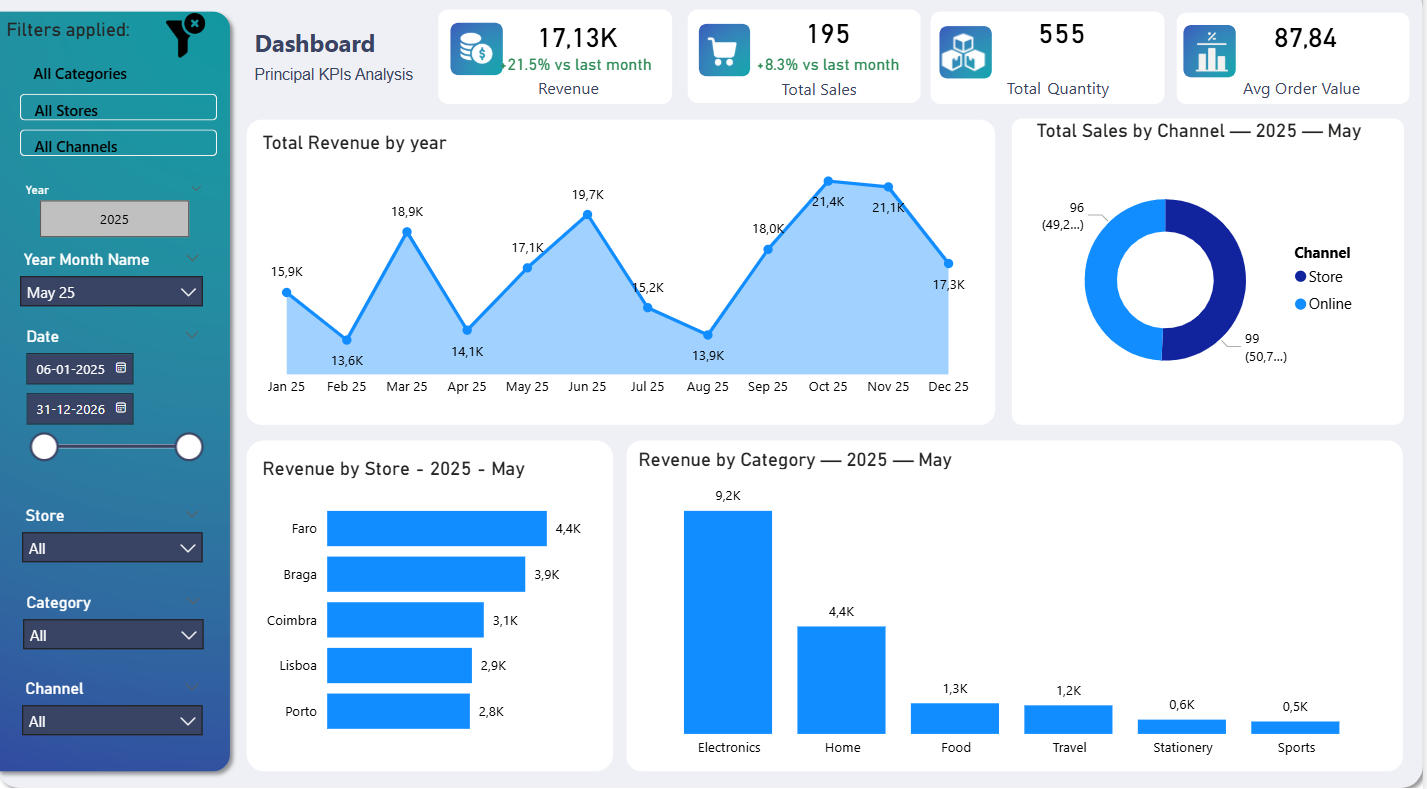

What the dashboard file says about the page in this screenshot:
{"tool":"powerbi","page":{"name":"Sales Overview","canvas":[1280,720],"ordinal":0},"visuals":[{"type":"card","fields":{"Values":["Measures (2).Total Sales"]},"box":[700.2,0,89.7,79.8],"z":0},{"type":"card","fields":{"Values":["Measures (2).Total Quantity"]},"box":[911.5,0,87.2,79.8],"z":1000},{"type":"card","fields":{"Values":["Measures (2).Average Order Value"]},"box":[1130.1,0,87.2,87.2],"z":2000},{"type":"columnChart","fields":{"Category":["Products.Category"],"Y":["Measures (2).Revenue"]},"box":[570.2,412.6,682.3,286.7],"z":3000},{"type":"clusteredBarChart","fields":{"Category":["Stores.Store"],"Y":["Measures (2).Revenue"]},"box":[232.2,421.3,307.1,266.6],"z":4000},{"type":"areaChart","title":"Total Revenue by year","fields":{"Y":["Measures (2).Revenue"],"Category":["DimDate.Date Hierarchy.Year","DimDate.Date Hierarchy.YearQuarter","DimDate.Date Hierarchy.Year Month Name"]},"box":[232.5,128.8,647.5,247.5],"z":5000},{"type":"donutChart","fields":{"Y":["Measures (2).Total Sales"],"Category":["Sales_Clean.Channel"]},"box":[927.5,117.5,311.2,270],"z":6000},{"type":"slicer","fields":{"Values":["DimDate.Year"]},"box":[11.8,169.9,183.8,60.9],"z":7000},{"type":"slicer","fields":{"Values":["DimDate.Date"]},"box":[12.8,300.2,180.6,152.8],"z":8000},{"type":"slicer","fields":{"Values":["Stores.Store"]},"box":[11.8,460.5,181.6,78],"z":9000},{"type":"slicer","fields":{"Values":["Products.Category"]},"box":[12.8,538.5,181.6,76.9],"z":10000},{"type":"slicer","fields":{"Values":["Sales_Clean.Channel"]},"box":[11.8,615.4,181.6,83.3],"z":11000},{"type":"cardVisual","title":"Filters applied:","fields":{"Data":["Measures (2).Report Context","Measures (2).Report context stores","Measures (2).Report context channels"]},"box":[2.7,26.9,211.9,142.7],"z":12000},{"type":"card","fields":{"Values":["Measures (2).Revenue"]},"box":[459.1,6.3,122.7,74],"z":13000},{"type":"card","fields":{"Values":["Measures (2).Revenue Trend Label"]},"box":[428.4,41.3,179.8,57.1],"z":14000},{"type":"card","fields":{"Values":["Measures (2).Total Sales Trend Label"]},"box":[670.7,29.5,148.6,79.8],"z":15000},{"type":"image","box":[136.8,22.3,63.9,40.1],"z":16000},{"type":"slicer","fields":{"Values":["DimDate.Year Month Name"]},"box":[9.6,230.8,183.8,60.9],"z":16001}]}

Visuals, with their boxes in screenshot pixels (x1, y1, x2, y2), scaled from the page's 1280x720 canvas onto the 1427x789 screenshot:
card - Measures (2).Total Sales: rect(781, 0, 881, 87)
card - Measures (2).Total Quantity: rect(1016, 0, 1113, 87)
card - Measures (2).Average Order Value: rect(1260, 0, 1357, 96)
columnChart - Products.Category x Measures (2).Revenue: rect(636, 452, 1396, 766)
clusteredBarChart - Stores.Store x Measures (2).Revenue: rect(259, 462, 601, 754)
"Total Revenue by year" areaChart: rect(259, 141, 981, 412)
donutChart - Measures (2).Total Sales x Sales_Clean.Channel: rect(1034, 129, 1381, 425)
slicer - DimDate.Year: rect(13, 186, 218, 253)
slicer - DimDate.Date: rect(14, 329, 216, 496)
slicer - Stores.Store: rect(13, 505, 216, 590)
slicer - Products.Category: rect(14, 590, 217, 674)
slicer - Sales_Clean.Channel: rect(13, 674, 216, 766)
"Filters applied:" cardVisual: rect(3, 29, 239, 186)
card - Measures (2).Revenue: rect(512, 7, 649, 88)
card - Measures (2).Revenue Trend Label: rect(478, 45, 678, 108)
card - Measures (2).Total Sales Trend Label: rect(748, 32, 913, 120)
image: rect(153, 24, 224, 68)
slicer - DimDate.Year Month Name: rect(11, 253, 216, 320)
